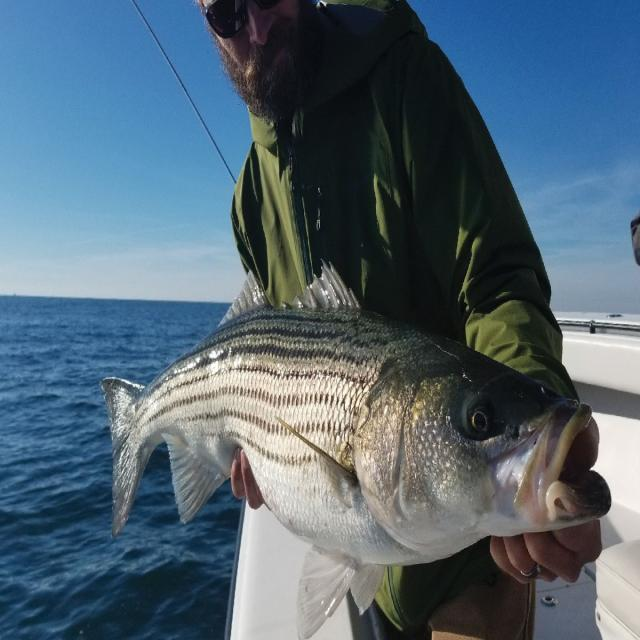Bass - Striped: (101, 264, 610, 638)
